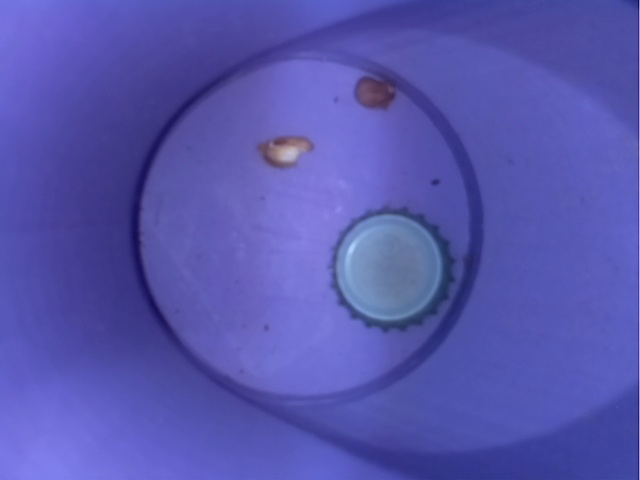capsule: (325, 195, 458, 342)
croquette: (340, 57, 407, 122), (244, 120, 321, 176)
